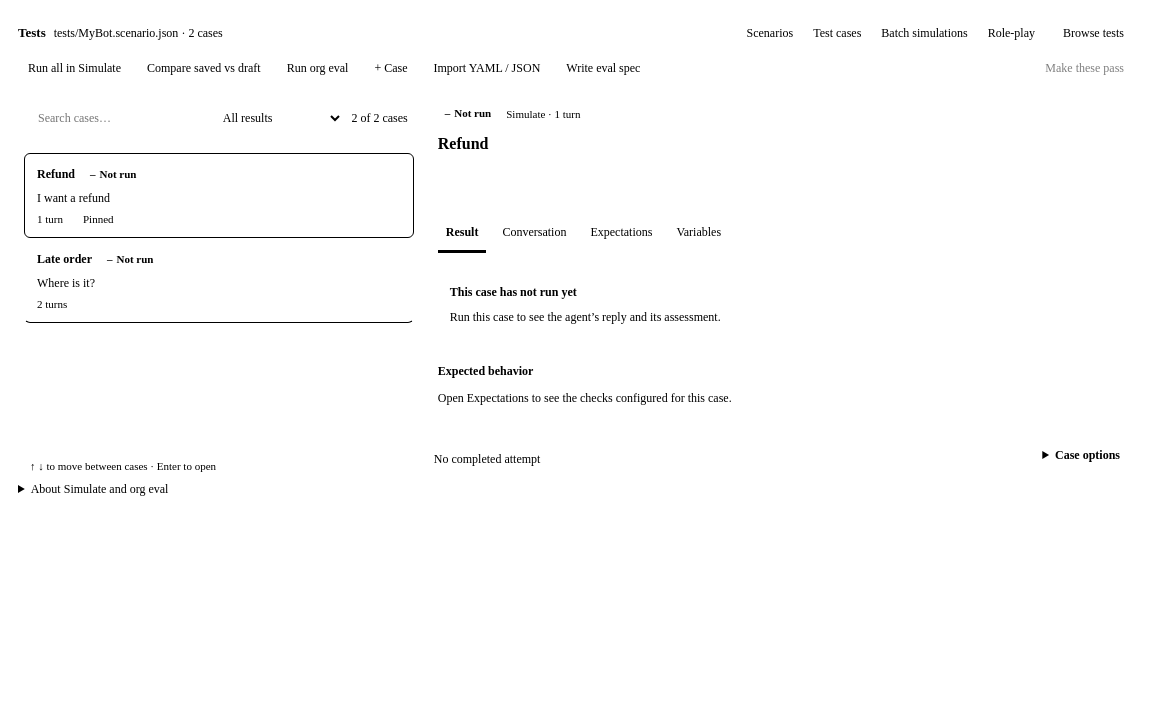
Test: lists concise cases and opens a separate inspector with real run actions
Expected: the element with test id "tests-cases-workbench" is shown, [18,89,1134,482]
Expected: the text "2 turns" is shown, [37,298,67,310]
Click the button with aria-label "Details for Late order".
click(64, 259)  # box [24,238,414,323]
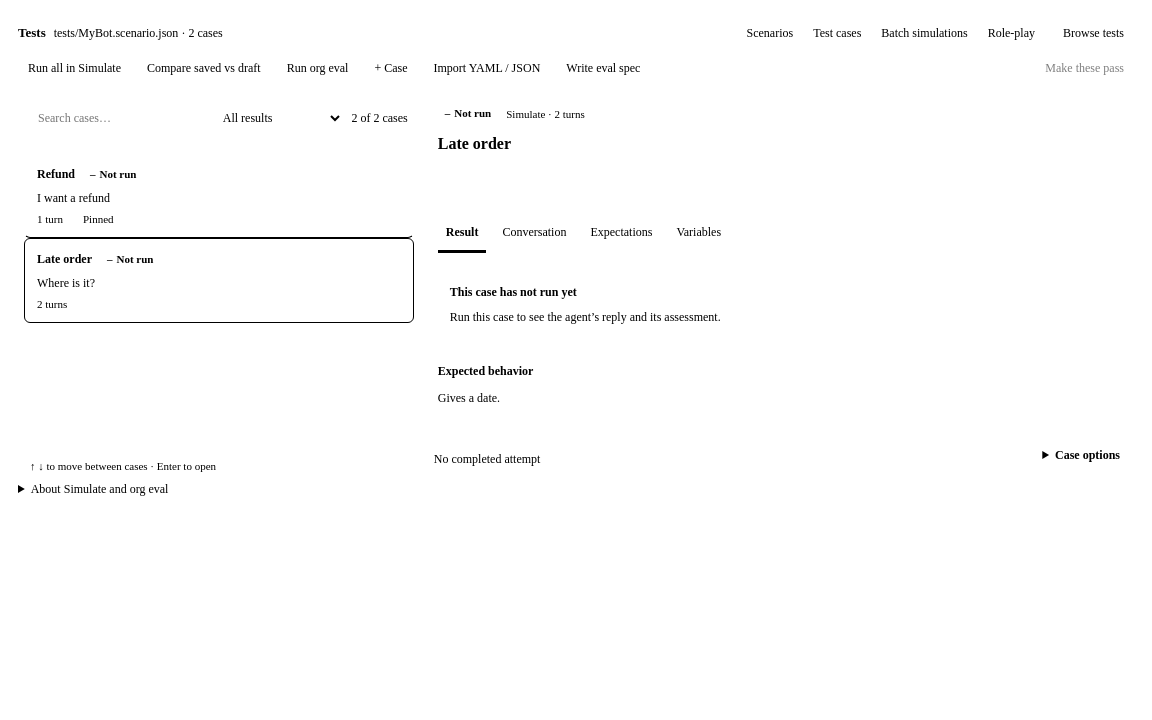
Expected: the text "This case has not run yet" is shown, [450,285,577,299]
Click the tab "Expectations".
click(621, 234)  # box [582,215,660,253]
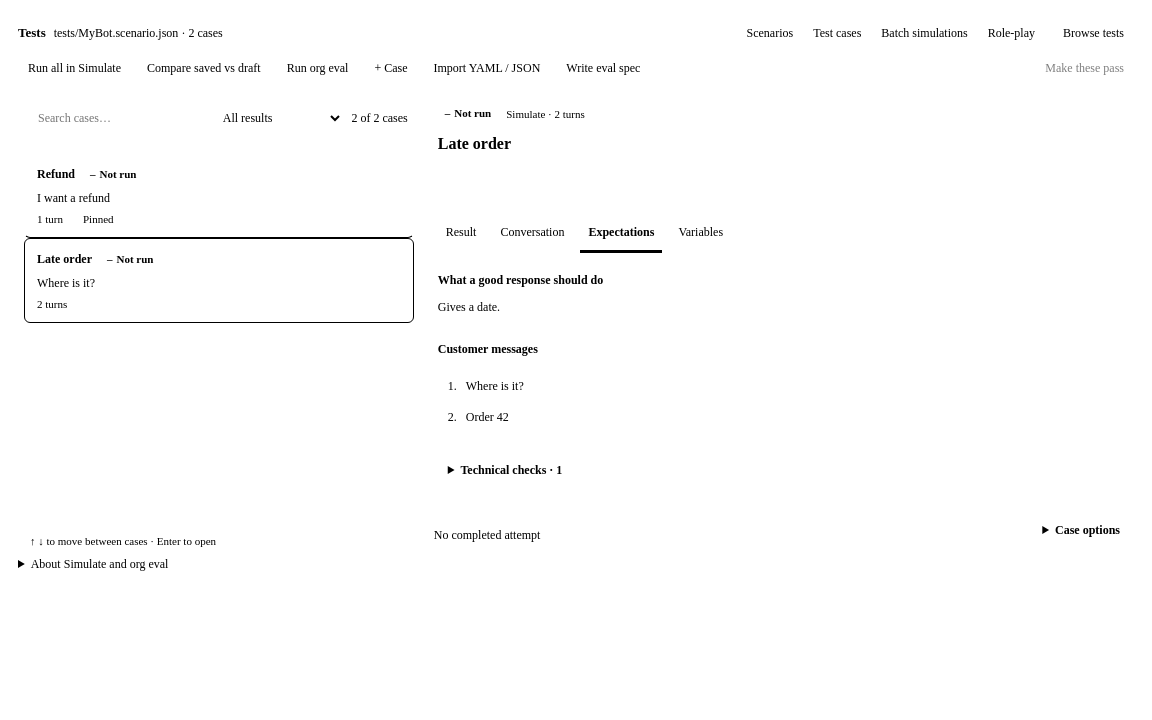
Expected: the button "Make these pass" is disabled, [1035,58,1134,79]
Expected: the list item "Order 42" is shown, [466,410,509,424]
